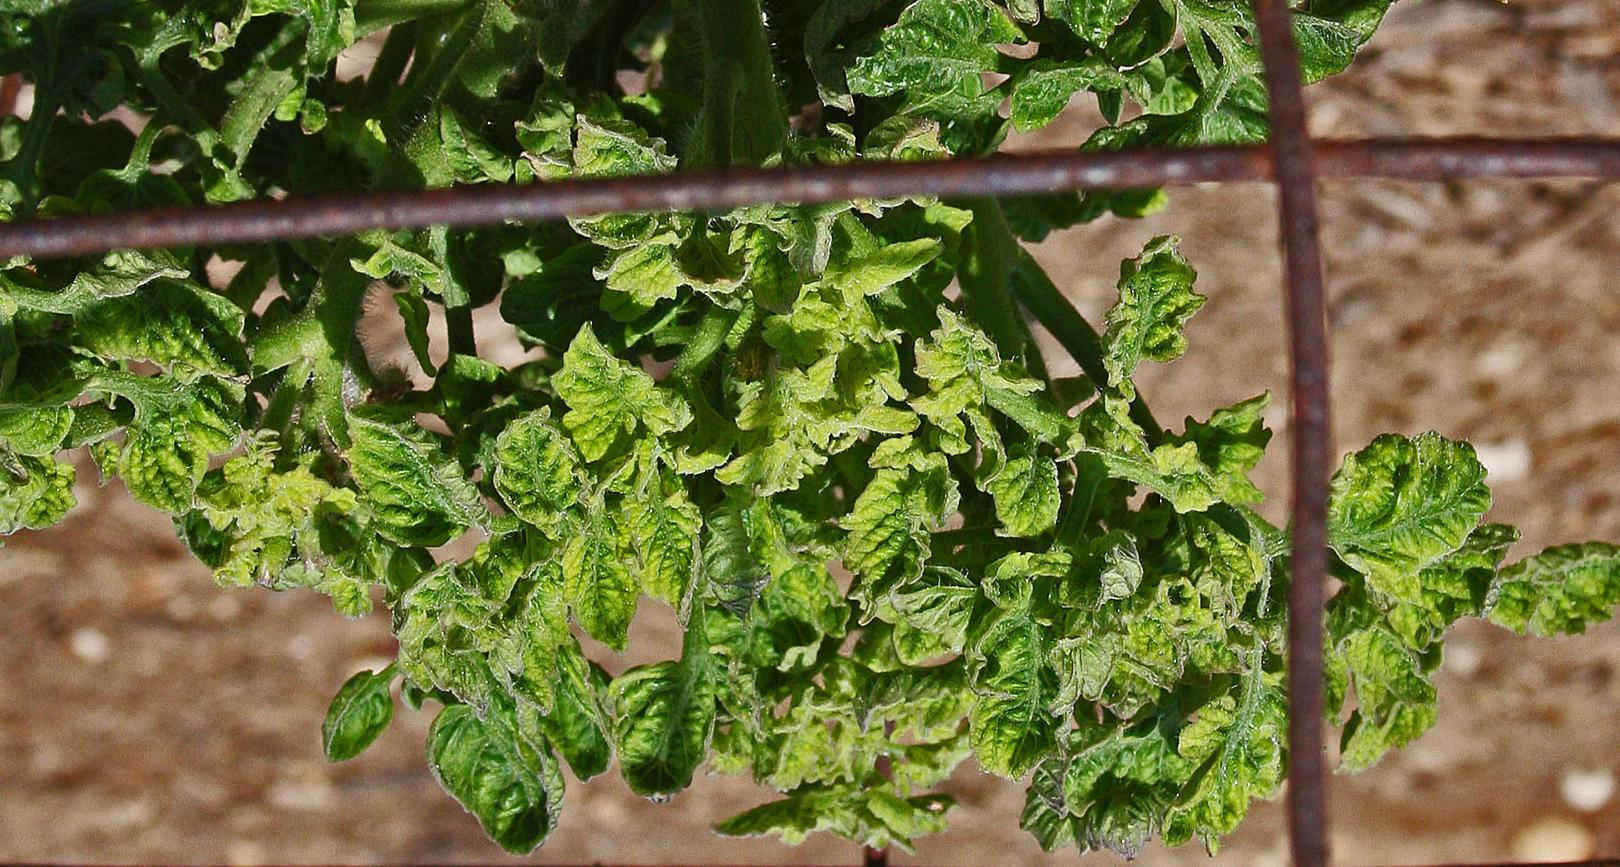Tomato leaf yellow virus: (404, 682, 597, 858), (1315, 395, 1500, 579), (21, 253, 253, 388), (592, 644, 753, 829), (325, 392, 500, 547), (834, 0, 1056, 118), (843, 404, 957, 624), (1153, 663, 1279, 844), (1332, 579, 1460, 751), (966, 591, 1079, 781), (483, 397, 611, 563), (547, 311, 682, 451), (1093, 229, 1209, 392), (721, 341, 841, 496), (1483, 529, 1620, 651), (1136, 397, 1273, 518), (617, 443, 714, 610), (562, 472, 640, 678), (601, 223, 753, 315), (104, 428, 225, 529), (1030, 0, 1189, 77), (987, 437, 1089, 538), (221, 0, 352, 76), (829, 227, 959, 297), (0, 391, 89, 461)
